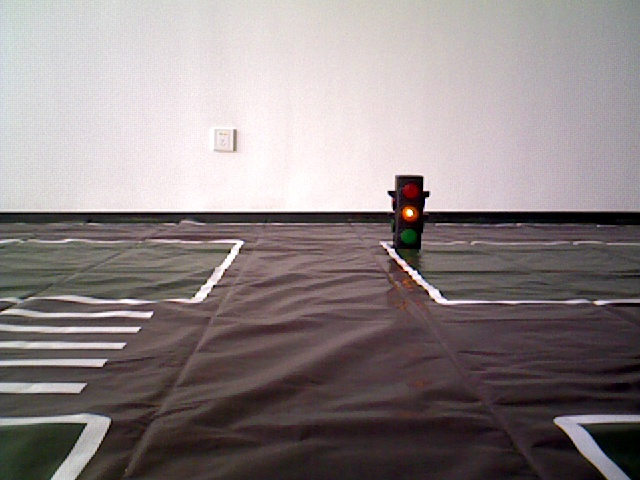yellow: (389, 170, 429, 251)
